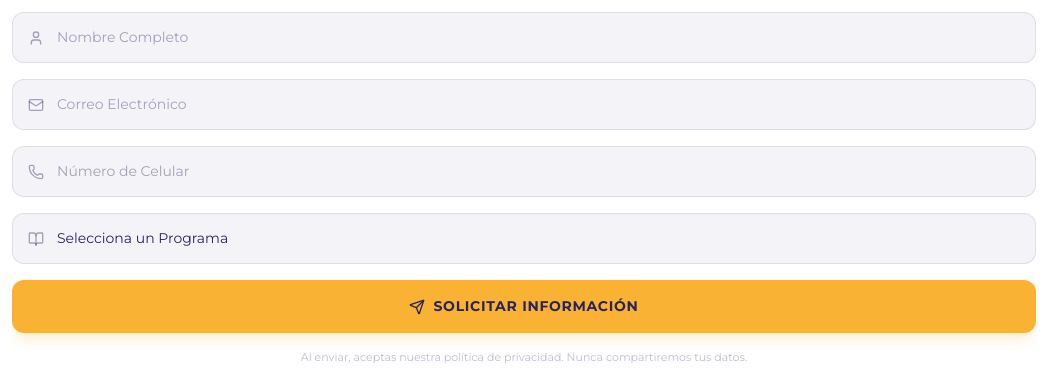
Test: LeadForm › shows success message after successful submission
Type "Juan" into the field with placeholder "Nombre Completo". click: (524, 38)
box: x1=12 y1=12 x2=1036 y2=63
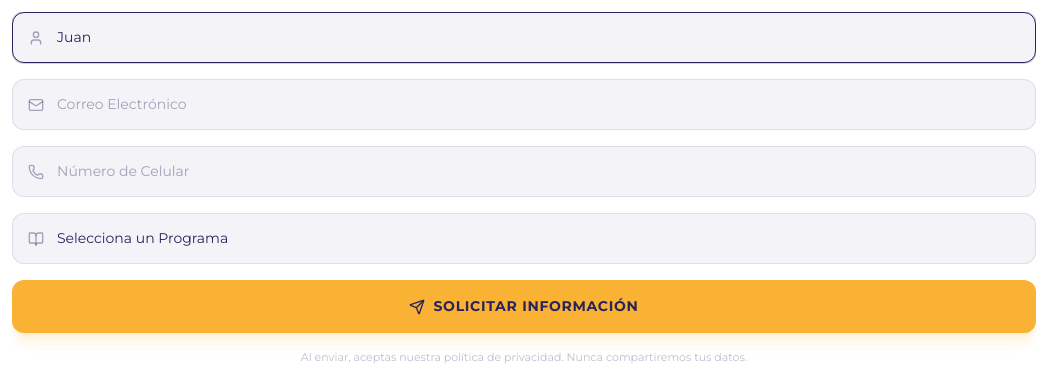
Type "j@e.com" into the field with placeholder "Correo Electrónico". click: (524, 104)
box: x1=12 y1=79 x2=1036 y2=130
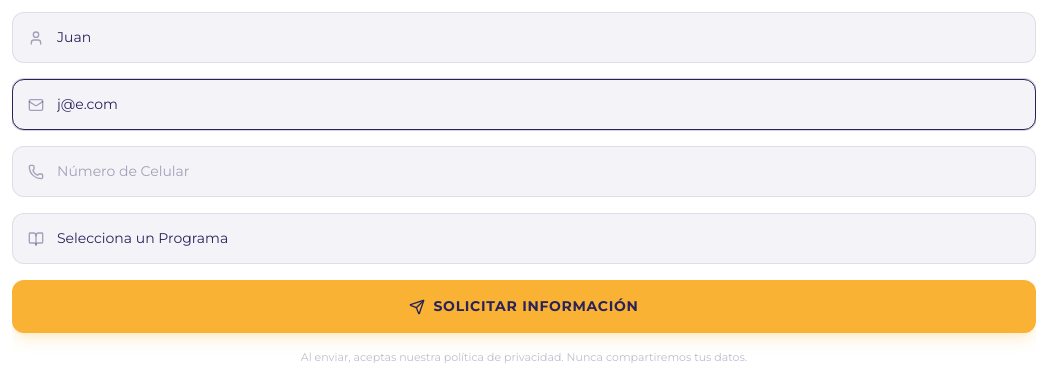
Type "300" into the field with placeholder "Número de Celular". click: (524, 172)
box: x1=12 y1=146 x2=1036 y2=197
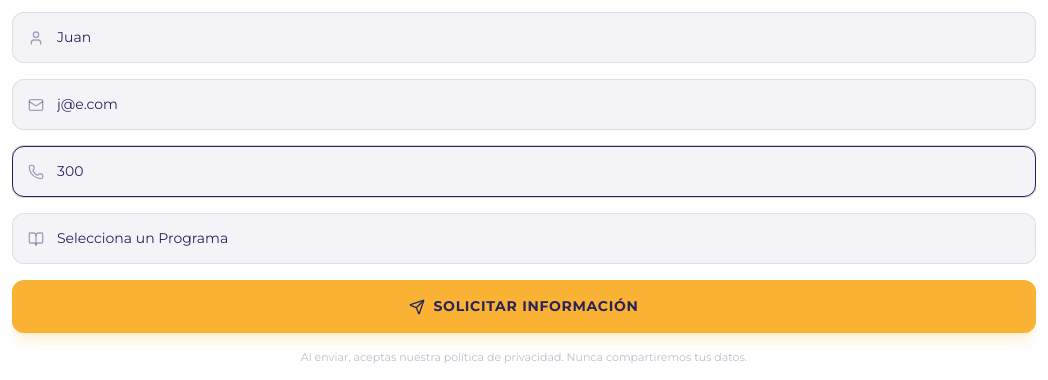
Select "Programa de Inglés" in the dropdown. click: (524, 238)
box: x1=12 y1=213 x2=1036 y2=264
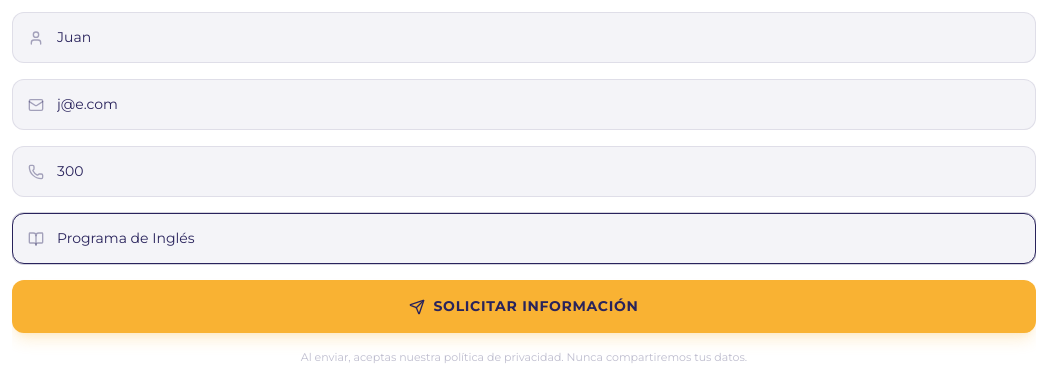
Click the button "Solicitar Información". click: (524, 306)
box: x1=12 y1=280 x2=1036 y2=333
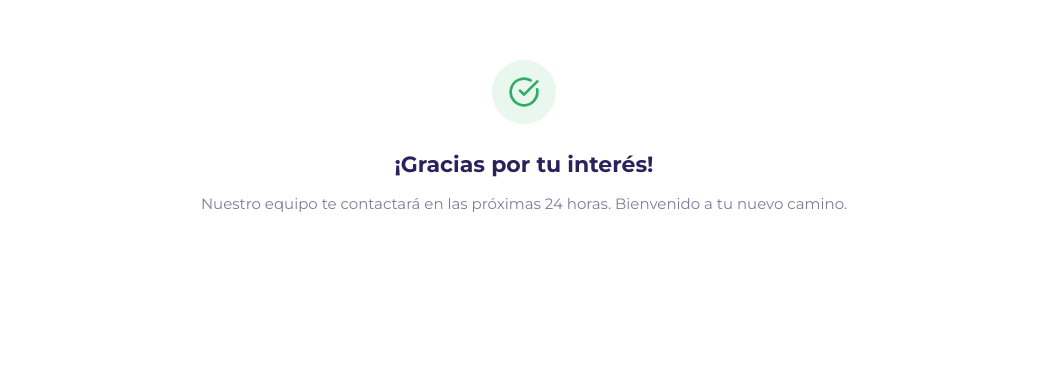
Now the heading "¡Gracias por tu interés!" is shown, box x1=394 y1=151 x2=654 y2=178
